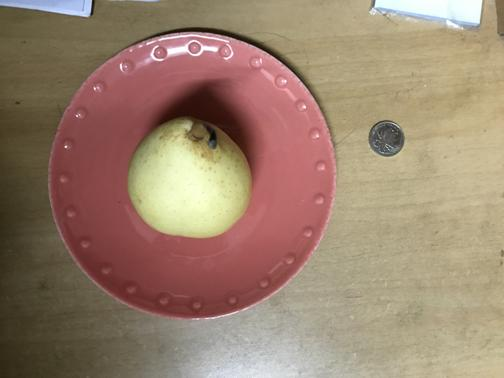coin: (370, 119, 405, 156)
pear: (125, 120, 252, 237)
